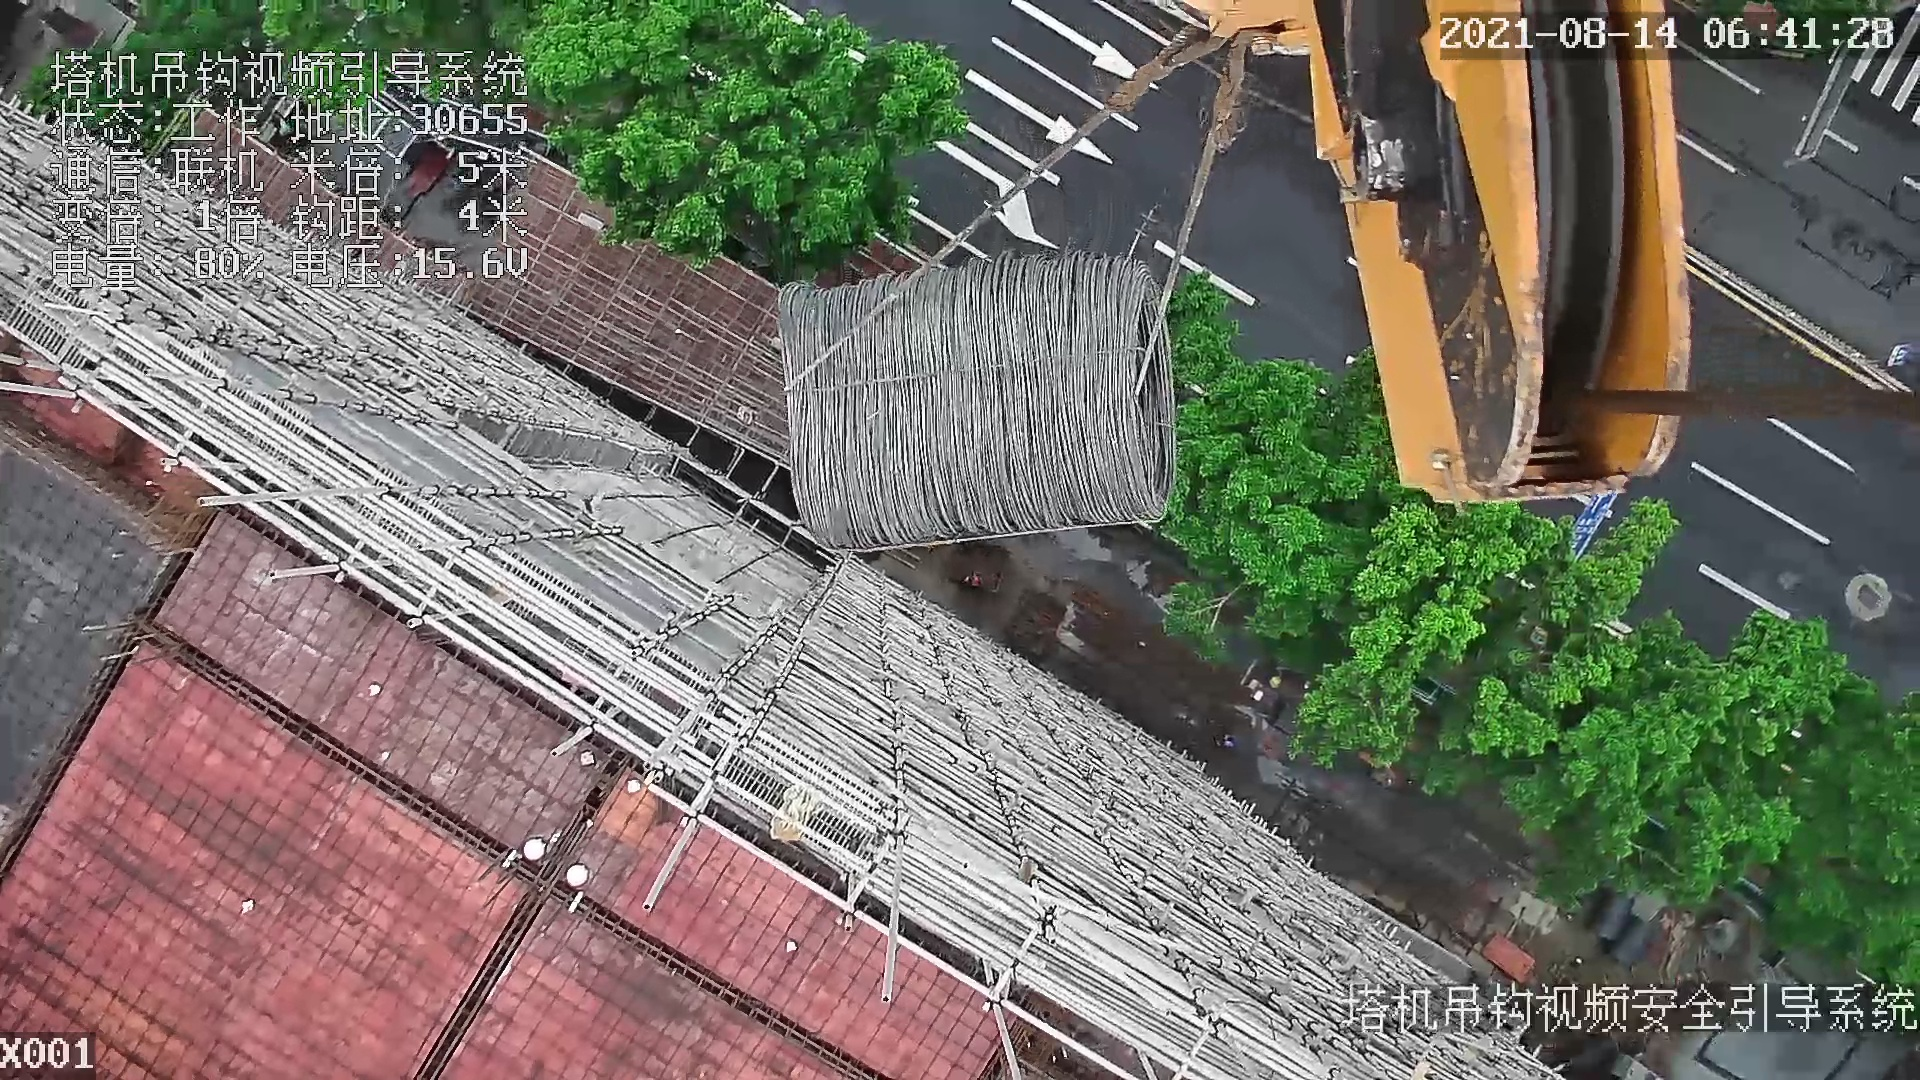hook: (1294, 1, 1691, 495)
